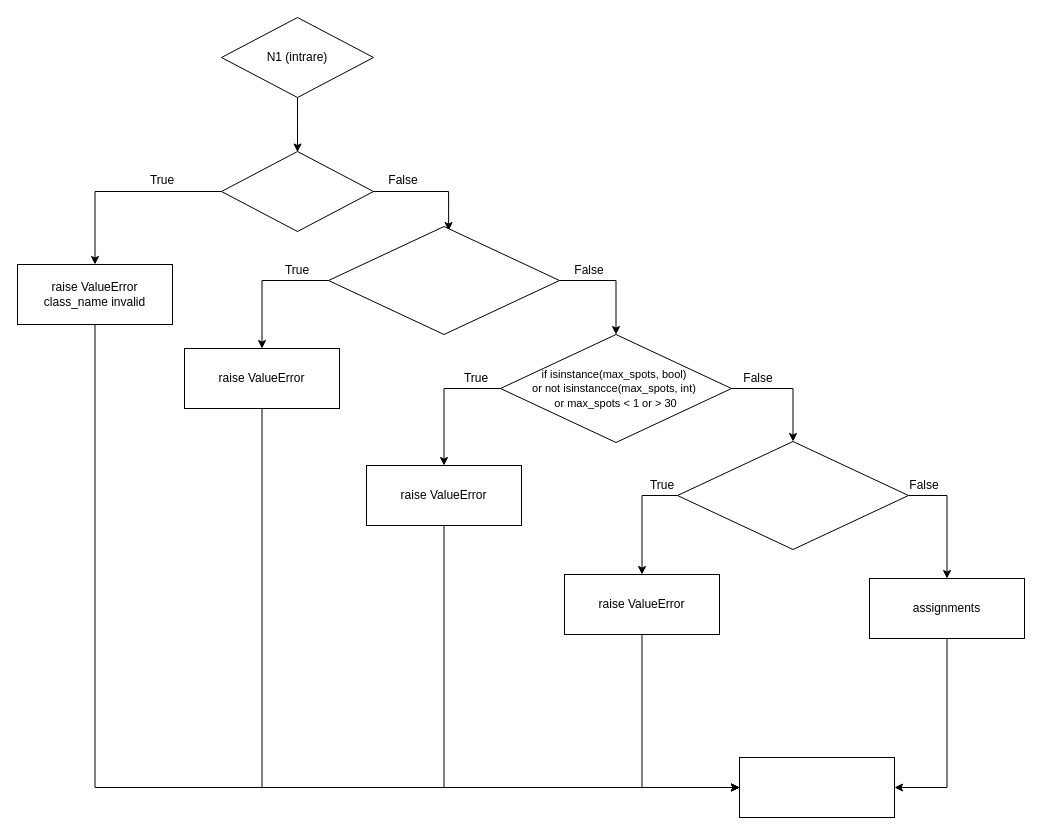
The diagram is 1042 pixels wide and 835 high, and some of its shapes have lost their labels. Each missing label, with the centre of its shape:
if class_name not in VALID_CLASSES: [297,191]
if not isinstance(instructor, str) or not instructor or not instructor.strip(): [444,280]
if price_per_session <= 0: [792,495]
N exit: [816,787]
